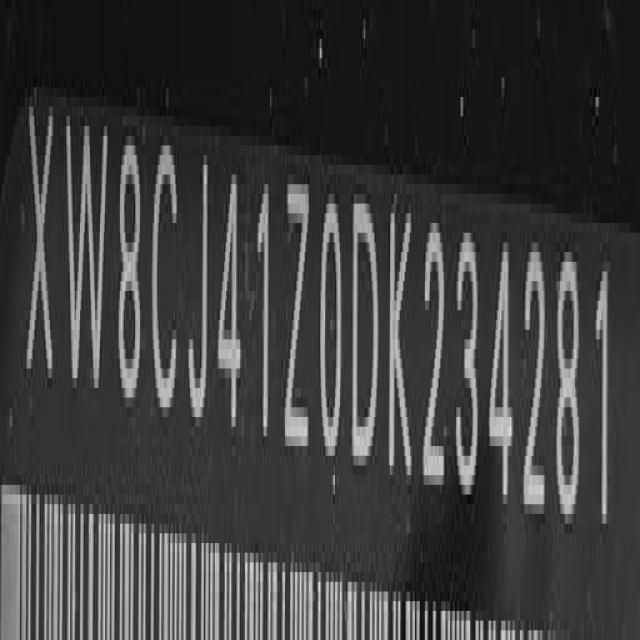0: (320, 179, 343, 467)
1: (594, 266, 612, 538), (255, 183, 272, 456)
2: (422, 216, 447, 507), (520, 241, 545, 524)
3: (453, 216, 479, 532)
4: (487, 237, 515, 510), (215, 176, 243, 435)
8: (555, 252, 582, 524), (119, 126, 141, 406)
C: (150, 133, 181, 424)
D: (350, 190, 381, 474)
J: (189, 136, 211, 434)
K: (387, 190, 414, 503)
W: (64, 100, 110, 392)
X: (24, 86, 59, 417)
Z: (286, 155, 312, 478)
